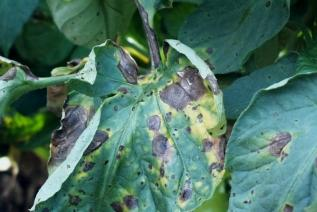Tomato Early blight leaf: (34, 27, 227, 212)
